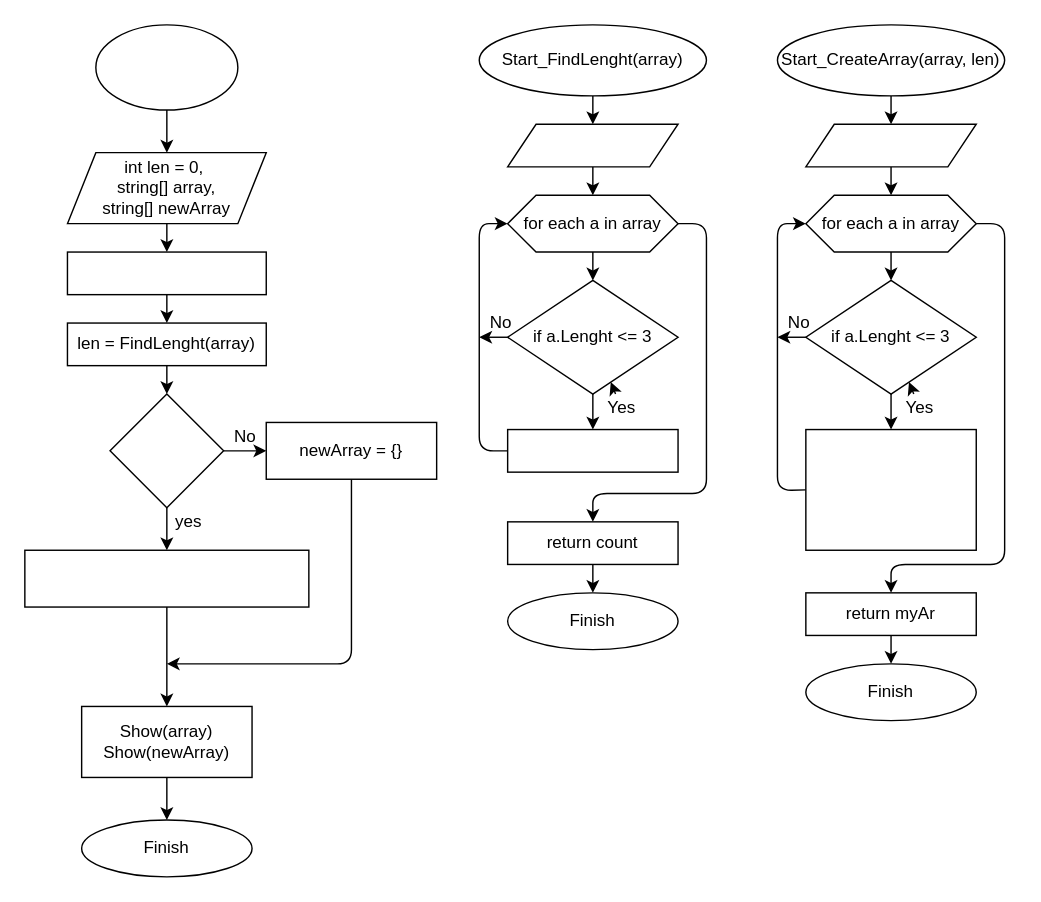
This 1041x902 diagram has some shape labels left out. The shapes that lost their labels are listed below. From the top down, each one's centre as x and y in pixels, then its label:
At (166,66): "Start_main".
At (592,145): "int count = 0".
At (890,145): "int i = 0, string[] myAr".
At (166,273): "array = {ghj, gt. tyuu, hjk}".
At (166,450): "if len>0".
At (592,450): "count++".
At (890,489): "myAr[i] = a i++".
At (166,578): "newArray = CreateArray(array, len)".
